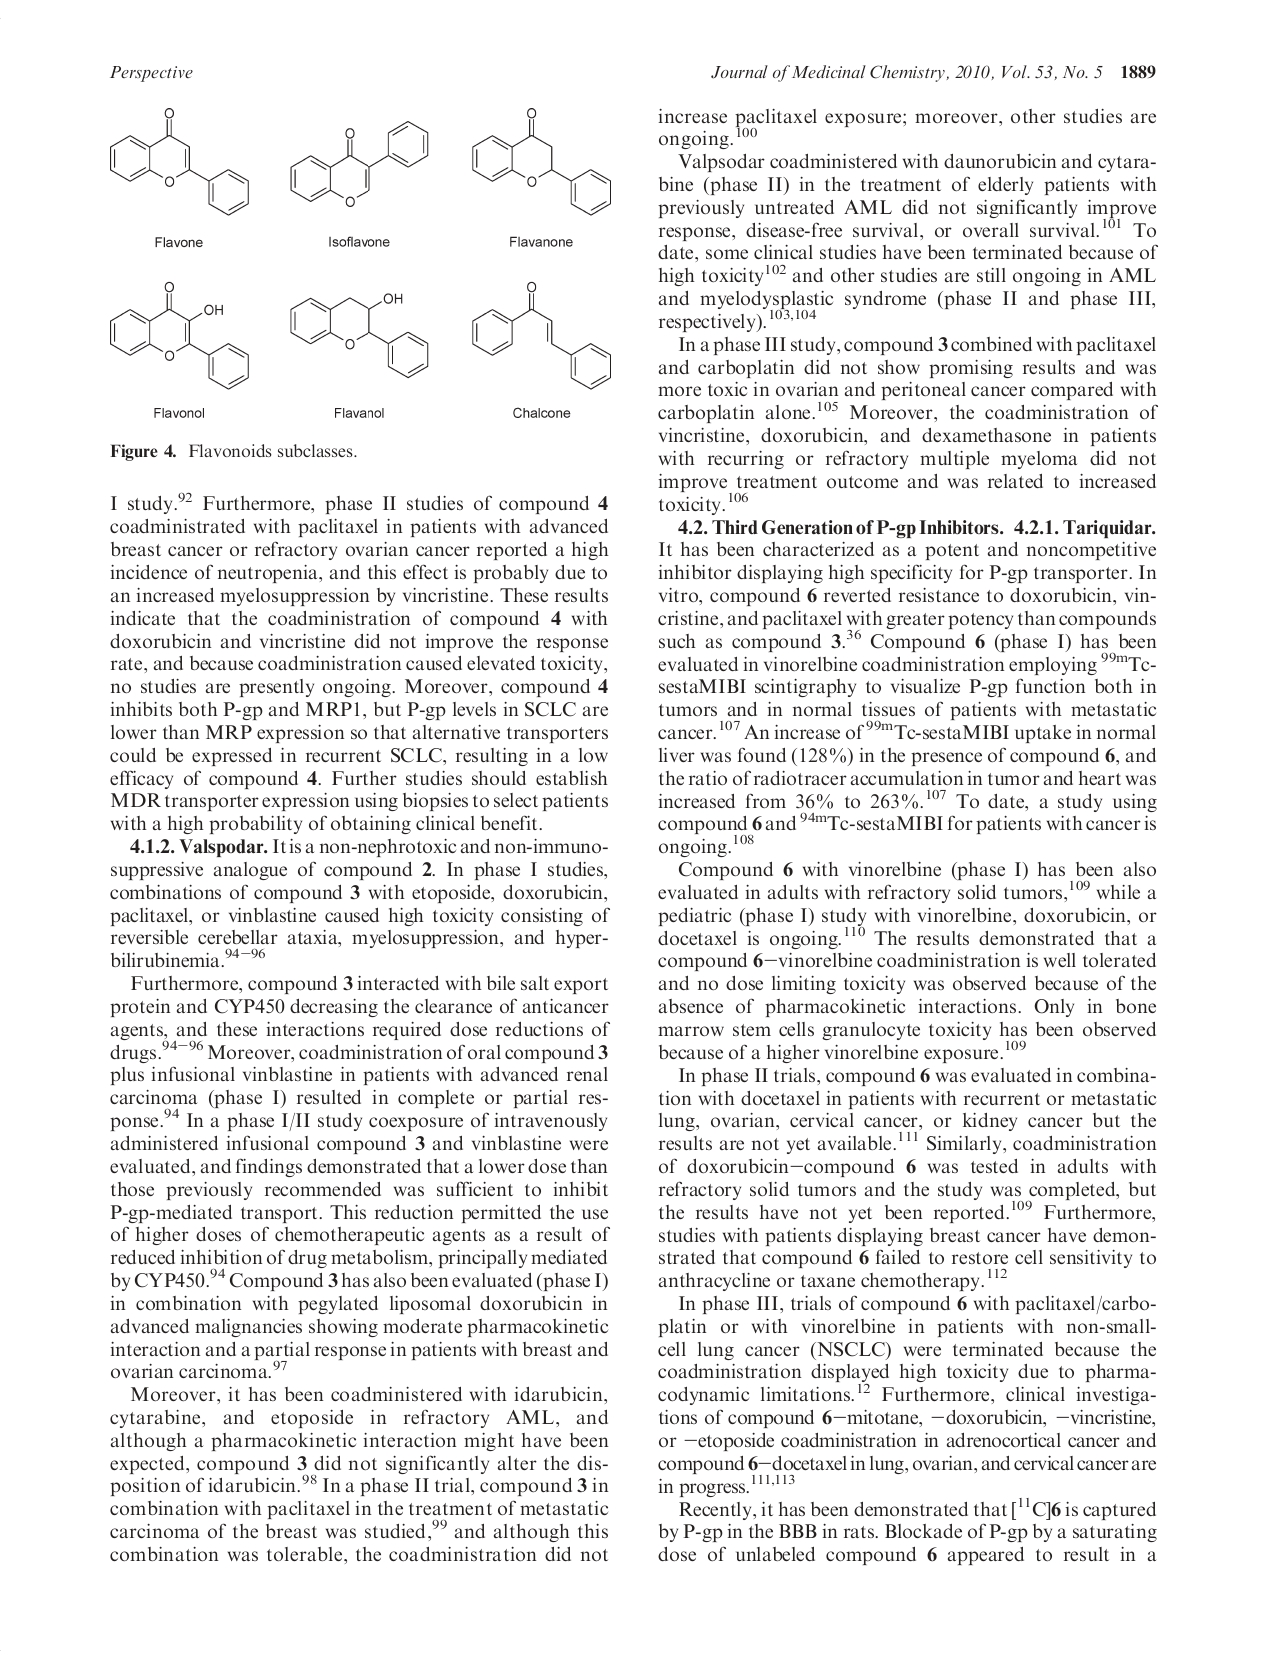exist_molecular: (469, 105, 614, 218), (106, 106, 251, 217), (469, 281, 613, 391), (108, 281, 251, 390), (289, 118, 432, 211), (289, 291, 430, 380)
